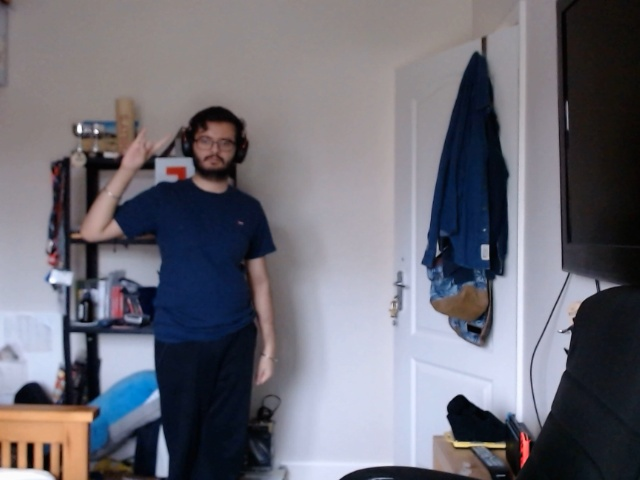Rock on: (112, 117, 179, 184)
